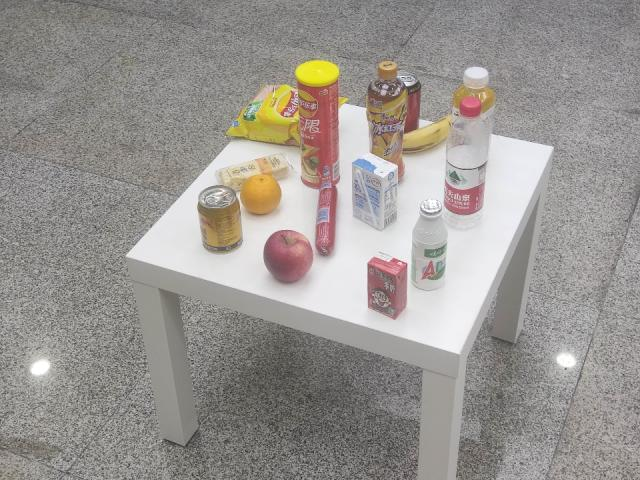Canned_drinks: (198, 185, 244, 257), (393, 73, 424, 132)
bottle: (441, 93, 497, 225)
cylinder: (292, 61, 344, 188)
drink_box: (348, 147, 402, 234), (360, 247, 414, 325)
